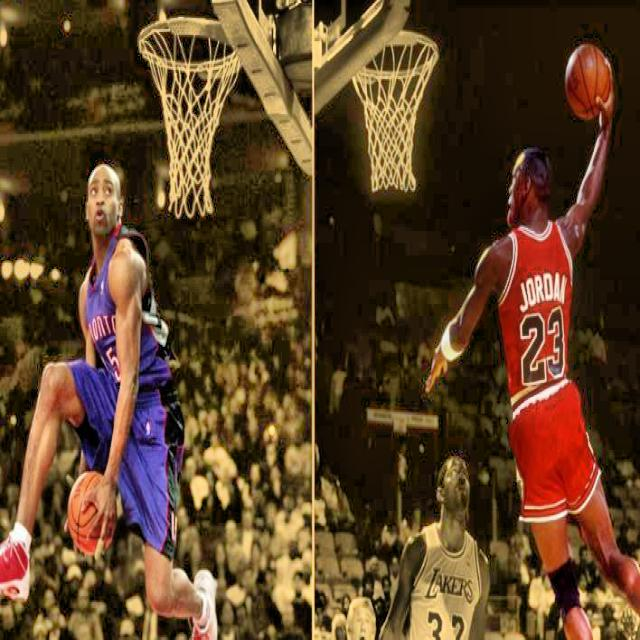board: (565, 44, 610, 122)
rim: (138, 17, 236, 216), (356, 32, 438, 195)
